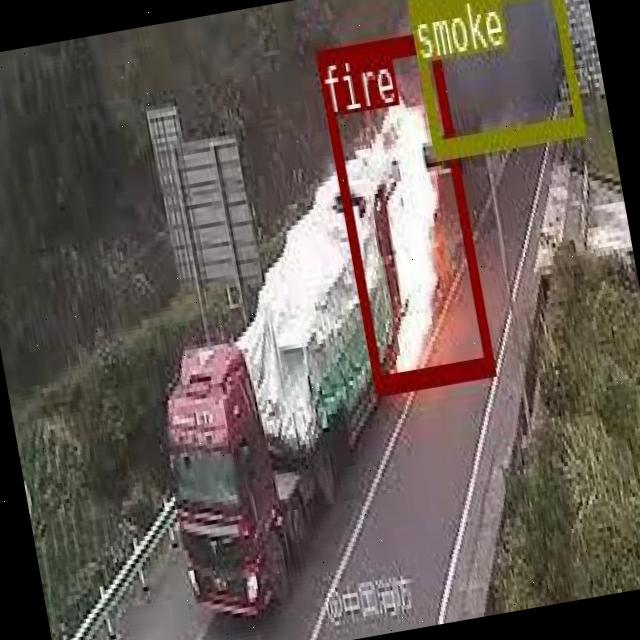fire: (314, 31, 493, 390)
smoke: (406, 0, 582, 157)
